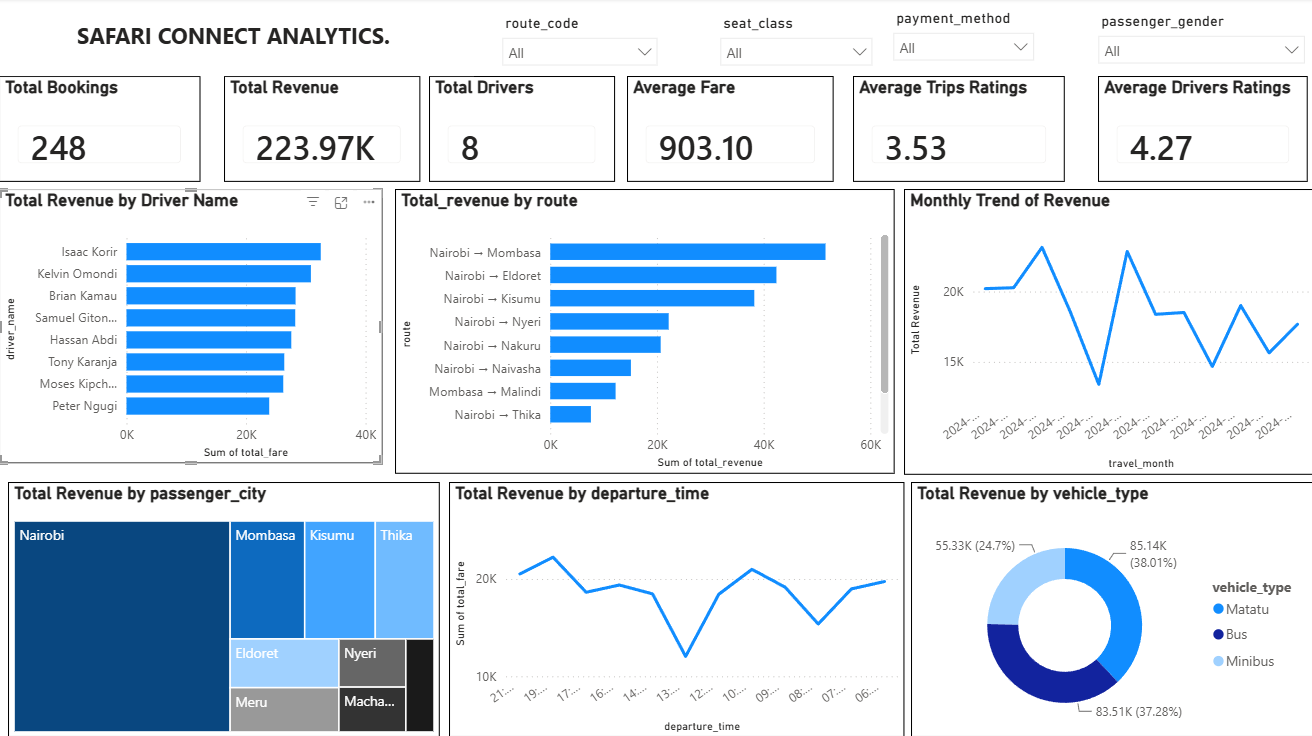

Layout of this report page (visuals, bound fields, positions):
{"tool":"powerbi","page":{"name":"Dashboard","canvas":[1280,720],"ordinal":0},"visuals":[{"type":"cardVisual","title":"Total Bookings","fields":{"Data":["Count(safari_connect v_clean_trips.booking_id)"]},"box":[0,75.9,195.5,103.1],"z":0},{"type":"cardVisual","title":"Total Revenue","fields":{"Data":["safari_connect v_clean_trips.Total Revenue"]},"box":[218.8,75.9,190.6,103.1],"z":1000},{"type":"slicer","fields":{"Values":["safari_connect v_cancellation_analysis.route_code"]},"box":[479.5,10.7,171.2,67.1],"z":2000},{"type":"cardVisual","title":"Total Drivers","fields":{"Data":["Count(safari_connect v_clean_trips.driver_name)"]},"box":[418.2,75.9,180.9,103.1],"z":3000},{"type":"clusteredBarChart","title":"Total Revenue by Driver Name","fields":{"Category":["safari_connect v_clean_trips.driver_name"],"Y":["Sum(safari_connect v_clean_trips.total_fare)"]},"box":[0,185.8,372.5,267.5],"z":4000},{"type":"clusteredBarChart","title":"Total_revenue by route","fields":{"Category":["safari_connect v_route_performance.route"],"Y":["Sum(safari_connect v_route_performance.total_revenue)"]},"box":[385.2,185.8,486.3,277.2],"z":5000},{"type":"cardVisual","title":"Average Fare","fields":{"Data":["Avg(safari_connect v_clean_trips.total_fare)"]},"box":[610.8,75.9,201.3,103.1],"z":6000},{"type":"cardVisual","title":"Average Drivers Ratings","fields":{"Data":["Avg(safari_connect v_clean_trips.driver_rating)"]},"box":[1068.9,75.9,204.3,103.1],"z":7000},{"type":"cardVisual","title":"Average Trips Ratings","fields":{"Data":["Avg(safari_connect v_clean_trips.trip_rating)"]},"box":[830.6,75.9,206.2,103.1],"z":8000},{"type":"lineChart","title":"Monthly Trend of Revenue","fields":{"Category":["safari_connect v_clean_trips.travel_month"],"Y":["safari_connect v_clean_trips.Total Revenue"]},"box":[880.2,185.8,399.8,278.2],"z":9000},{"type":"donutChart","fields":{"Y":["safari_connect v_clean_trips.Total Revenue"],"Category":["safari_connect v_clean_trips.vehicle_type"]},"box":[887.1,470.8,392.9,249],"z":10000},{"type":"treemap","fields":{"Group":["safari_connect v_clean_trips.passenger_city"],"Values":["safari_connect v_clean_trips.Total Revenue"]},"box":[8.8,470.8,420.2,249],"z":11000},{"type":"slicer","fields":{"Values":["safari_connect v_clean_trips.seat_class"]},"box":[691.6,10.7,168.3,61.3],"z":12000},{"type":"slicer","fields":{"Values":["safari_connect v_clean_trips.payment_method"]},"box":[859.8,5.8,156.6,61.3],"z":13000},{"type":"slicer","fields":{"Values":["safari_connect v_clean_trips.passenger_gender"]},"box":[1059.2,8.8,220.8,56.4],"z":14000},{"type":"lineChart","title":"Total Revenue by departure_time","fields":{"Y":["Sum(safari_connect v_clean_trips.total_fare)"],"Category":["safari_connect v_clean_trips.departure_time"]},"box":[437.7,470.8,442.6,249],"z":15000},{"type":"textbox","box":[0,0,462,75.9],"z":16000}]}

Visuals, with their boxes in screenshot pixels (x1, y1, x2, y2), scaled from the page's 1280x720 canvas onto the 1312x736 screenshot:
"Total Bookings" cardVisual: 0, 78, 200, 183
"Total Revenue" cardVisual: 224, 78, 420, 183
slicer - safari_connect v_cancellation_analysis.route_code: 491, 11, 667, 80
"Total Drivers" cardVisual: 429, 78, 614, 183
"Total Revenue by Driver Name" clusteredBarChart: 0, 190, 382, 463
"Total_revenue by route" clusteredBarChart: 395, 190, 893, 473
"Average Fare" cardVisual: 626, 78, 832, 183
"Average Drivers Ratings" cardVisual: 1096, 78, 1305, 183
"Average Trips Ratings" cardVisual: 851, 78, 1063, 183
"Monthly Trend of Revenue" lineChart: 902, 190, 1311, 474
donutChart - safari_connect v_clean_trips.Total Revenue x safari_connect v_clean_trips.vehicle_type: 909, 481, 1311, 735
treemap - safari_connect v_clean_trips.passenger_city x safari_connect v_clean_trips.Total Revenue: 9, 481, 440, 735
slicer - safari_connect v_clean_trips.seat_class: 709, 11, 881, 74
slicer - safari_connect v_clean_trips.payment_method: 881, 6, 1042, 69
slicer - safari_connect v_clean_trips.passenger_gender: 1086, 9, 1311, 67
"Total Revenue by departure_time" lineChart: 449, 481, 902, 735
textbox: 0, 0, 474, 78
